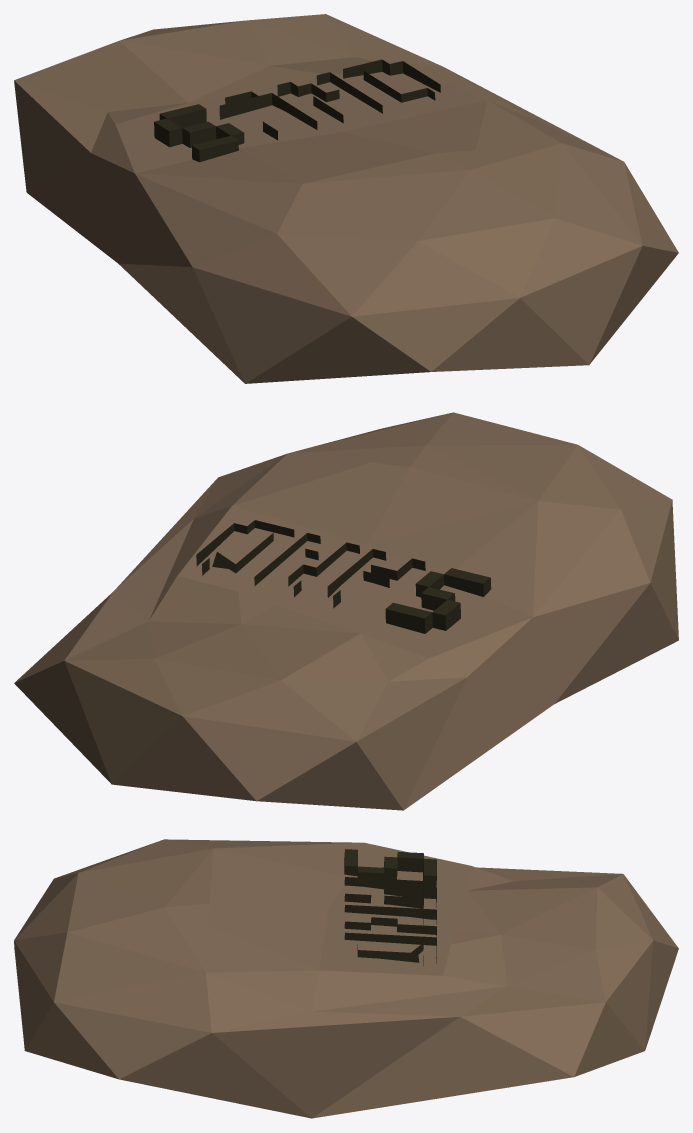
The model's file is Zandzak 1.fbx.
3 views of the same model, one above another, from view 1: azimuth 30°, elevation 25°; view 2: azimuth 150°, elevation 25°; view 3: azimuth 270°, elevation 25° (orthographic). The views are drawn at different scales.
Parts seen in each view (by area): view 1: Icosphere, Icosphere.001; view 2: Icosphere, Icosphere.001; view 3: Icosphere, Icosphere.001.
Boxes of the visible parts, x1,y1,x2,y2 form: Icosphere: (14, 14, 678, 383); Icosphere.001: (154, 59, 440, 162); Icosphere: (14, 412, 678, 810); Icosphere.001: (196, 520, 491, 633); Icosphere: (14, 839, 678, 1118); Icosphere.001: (344, 849, 436, 965).
Bounding box in the file's own units: 175 × 62.23 × 267.
